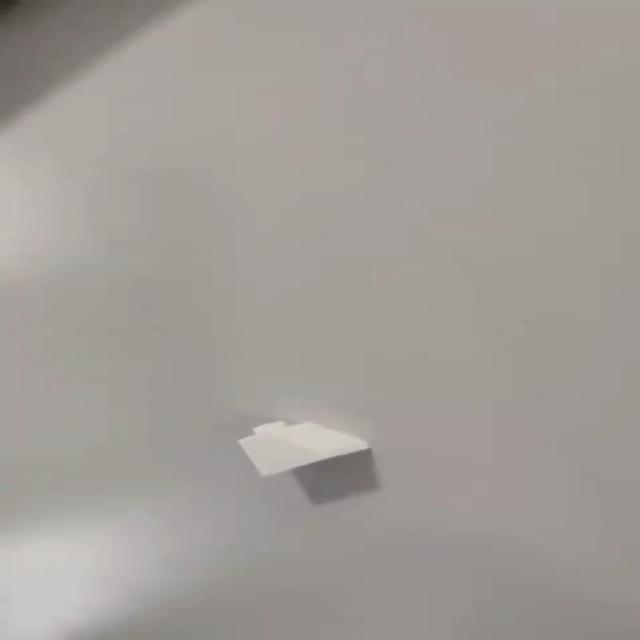P1x2x1: (237, 423, 374, 474)
